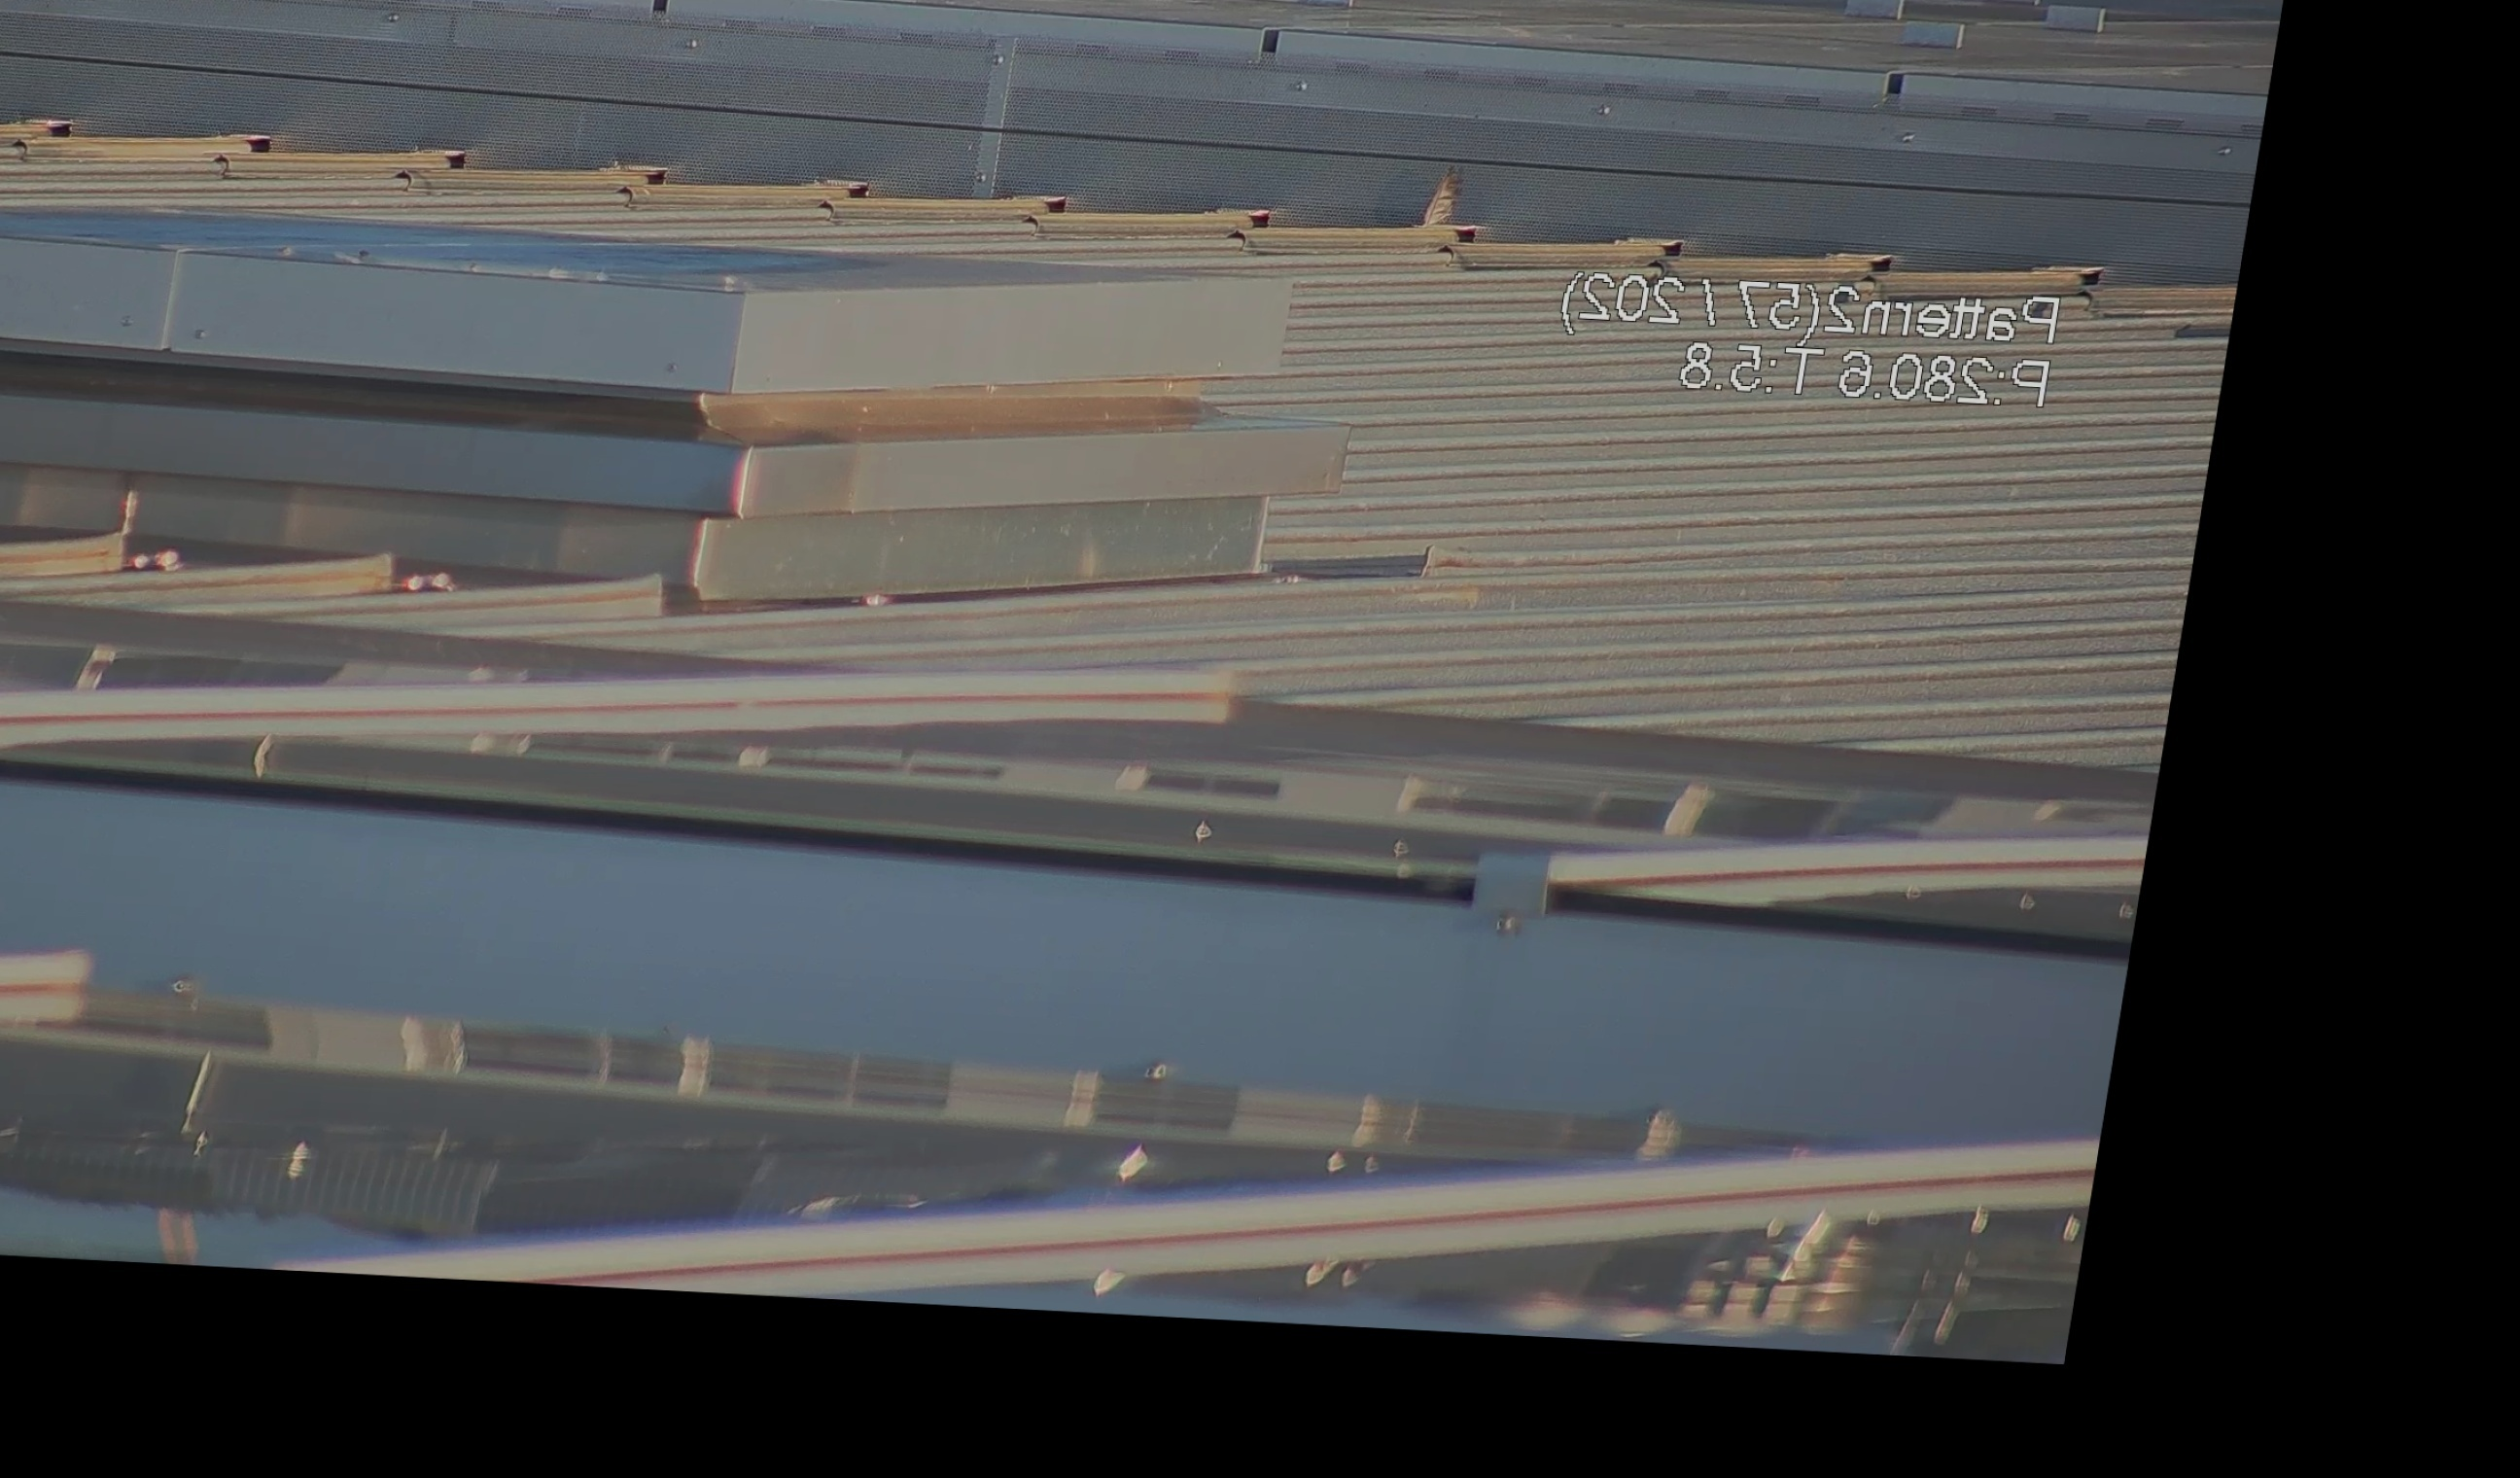Other: (1416, 150, 1489, 241)
